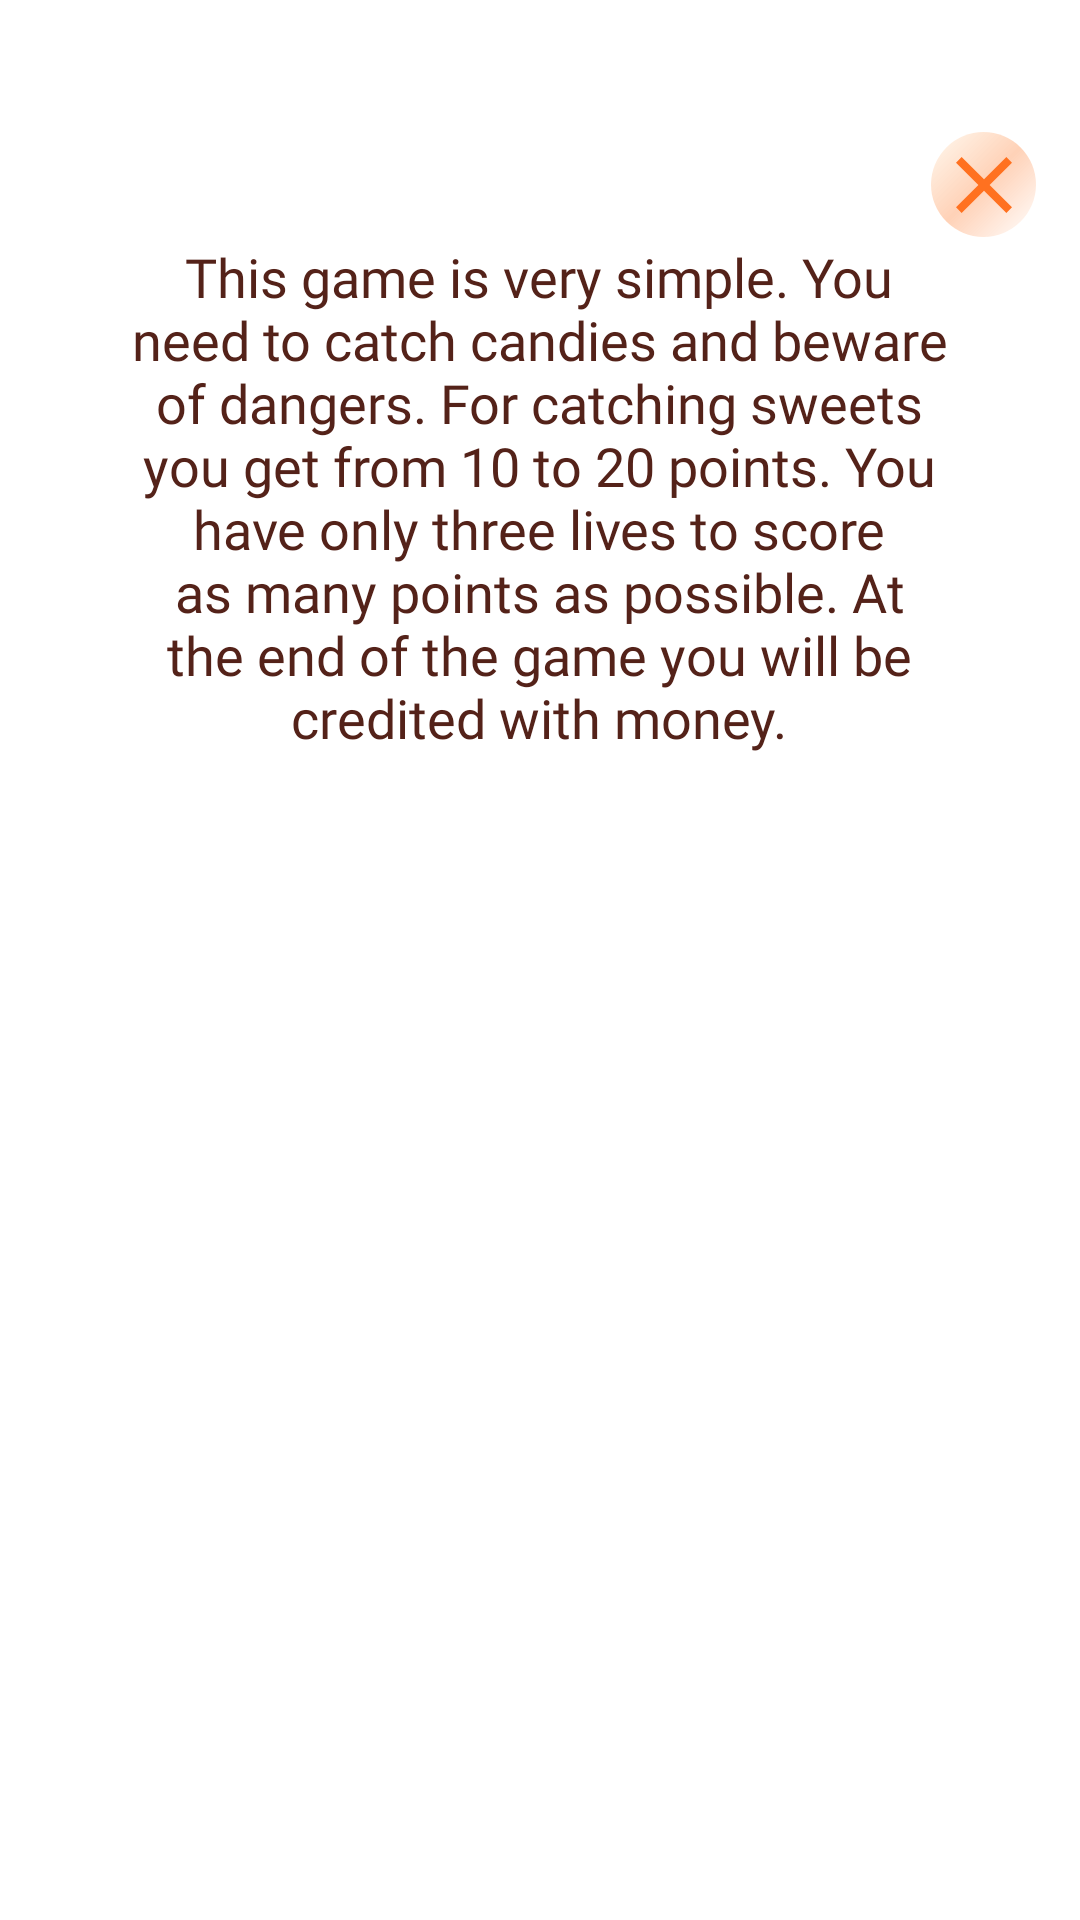

Icon click points for this 1080px×1920px phone screenshot, format (x=x, y=y):
close: (x=983, y=184)
